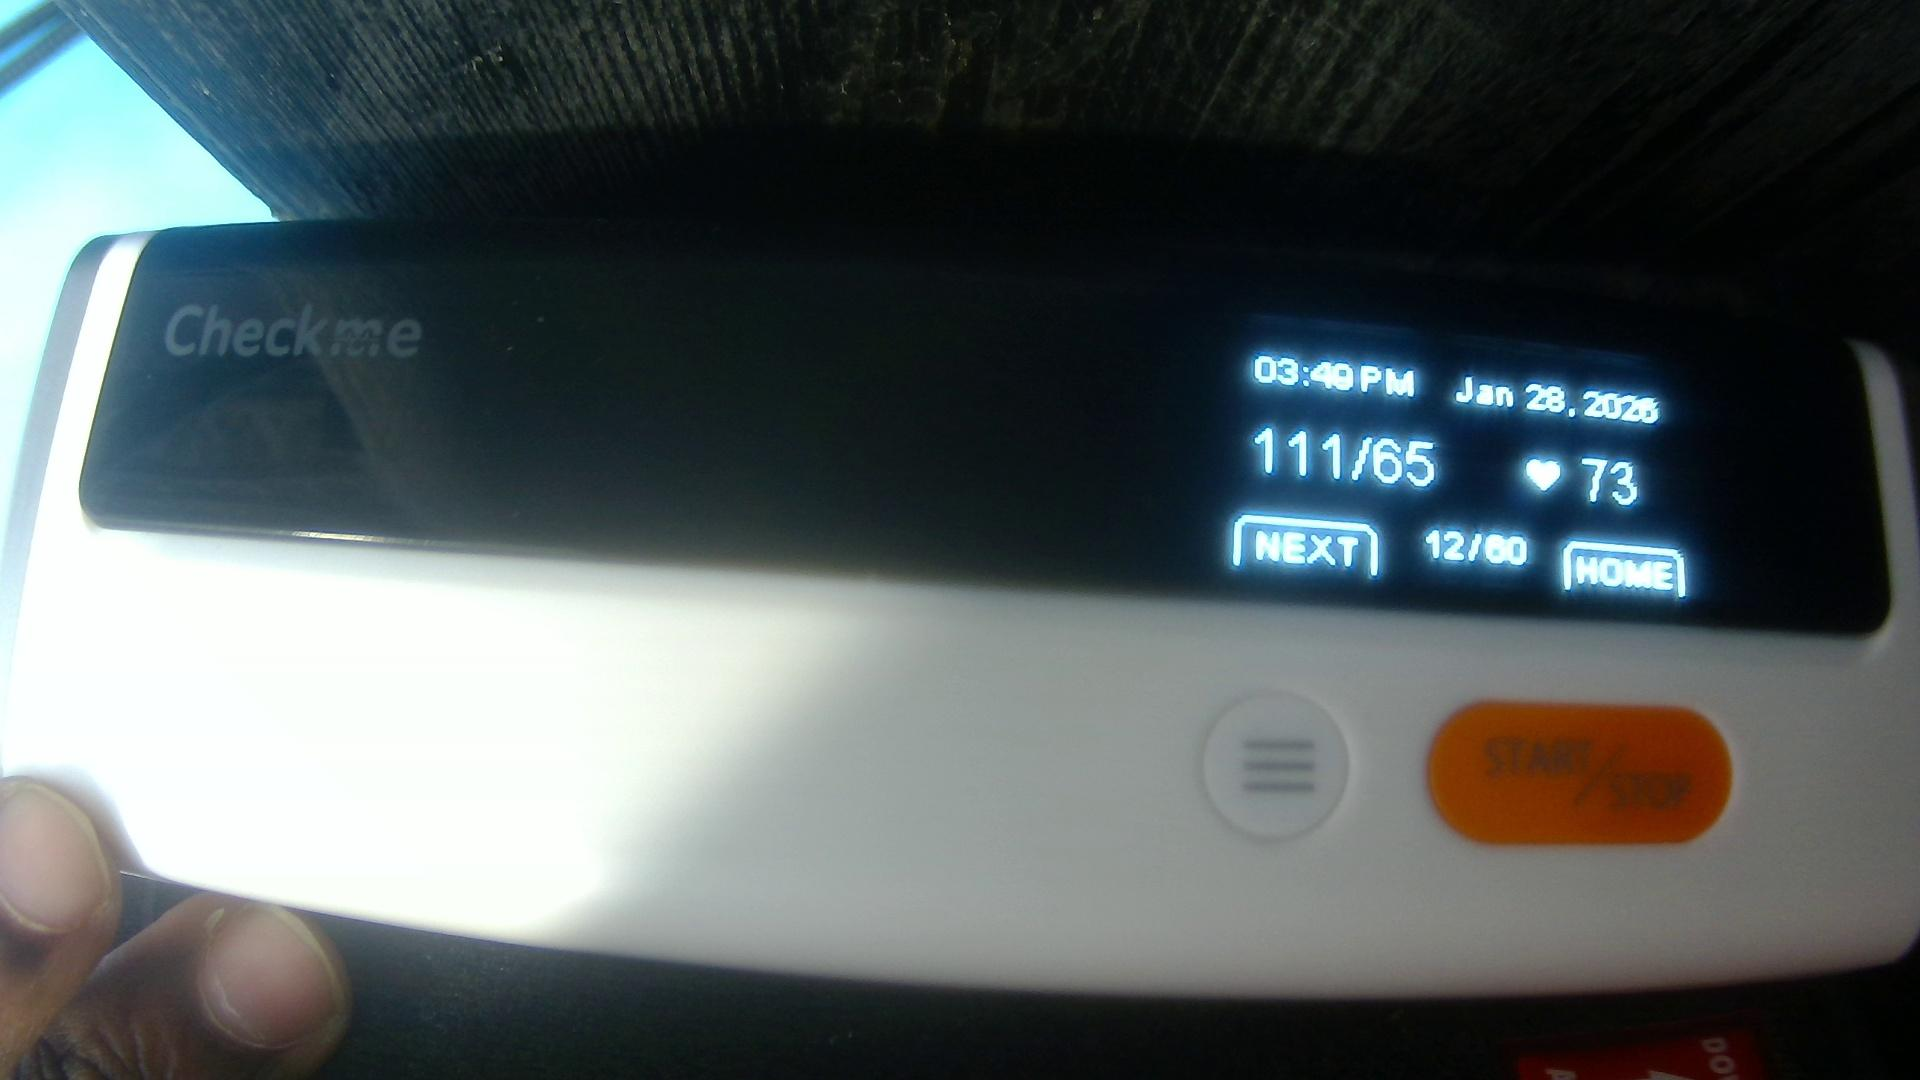DISPLAY: (92, 237, 1871, 647)
